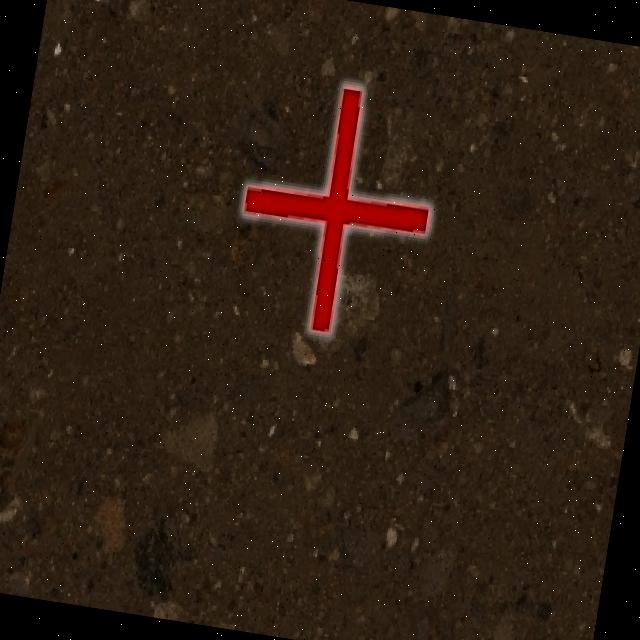x_marker: (227, 72, 447, 343)
